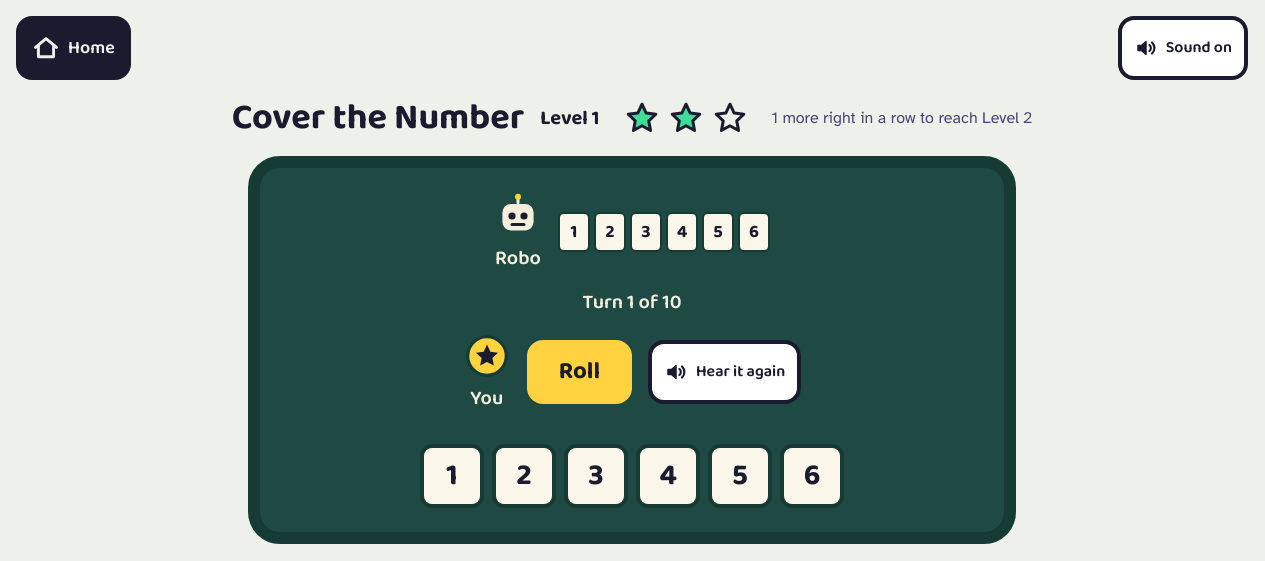
Test: rolling shows the die and asks how many dots, with the board to tap
Click the button "Roll" at (579, 372), box [527, 340, 632, 404]
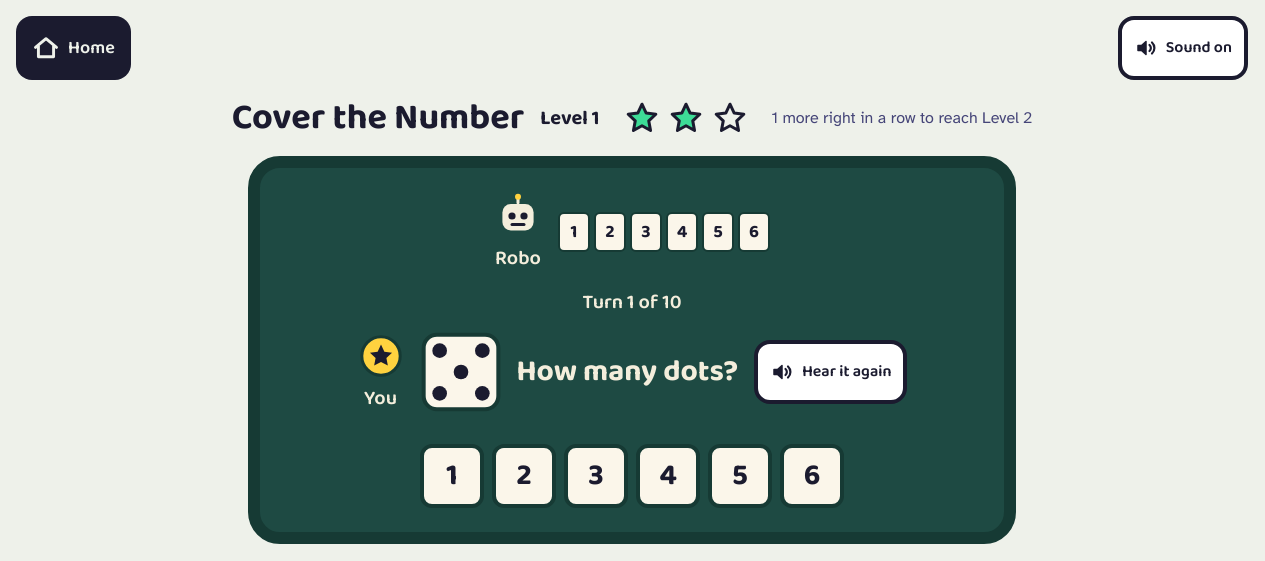
Expected: the text "Turn 1 of 10" is shown, [582, 288, 682, 316]
Expected: the picture named "5 dots" is shown, [420, 332, 500, 412]
Expected: the text "How many dots?" is shown, [516, 354, 738, 390]
